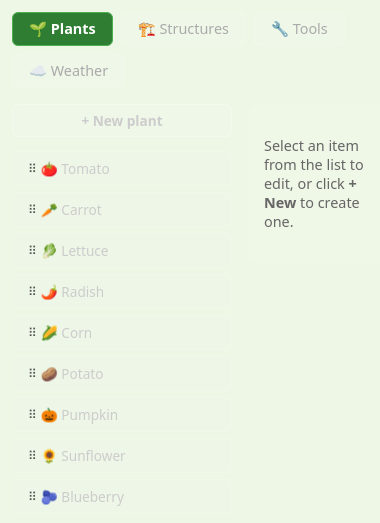
Test case: ContentCreator — tab switching › switches to Structures tab and shows default structures
Click the button "🏗️ Structures". click: [183, 29]
box: [121, 12, 246, 46]
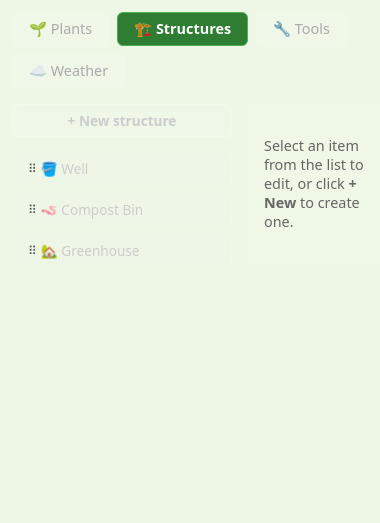
Now the text "🪣 Well" is shown, box [41, 159, 88, 178]
Now the text "🪱 Compost Bin" is shown, box [41, 200, 143, 219]
